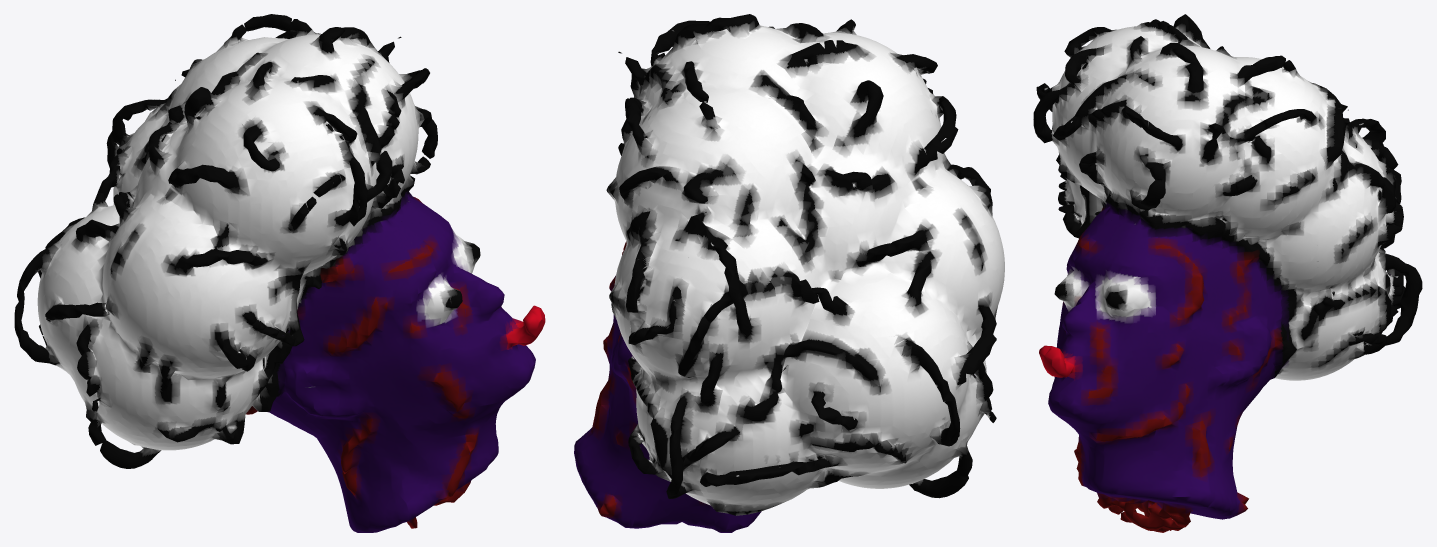
The model's file is poach_NextTech_2019-07-11_11-08-45.fbx.
3 renders of one model, left to right at view 1: azimuth 30°, elevation 25°; view 2: azimuth 150°, elevation 25°; view 3: azimuth 270°, elevation 25°, orthographic. The views are drawn at different scales.
Parts seen in each view (by area): view 1: Layer_1; view 2: Layer_1; view 3: Layer_1.
Boxes of the visible parts, left/top/right/bottom form: Layer_1: left=14, top=14, right=545, bottom=532; Layer_1: left=574, top=14, right=1004, bottom=532; Layer_1: left=1033, top=14, right=1422, bottom=532.
Size of the model in its own units: 0.3588 by 0.3201 by 0.4136.
